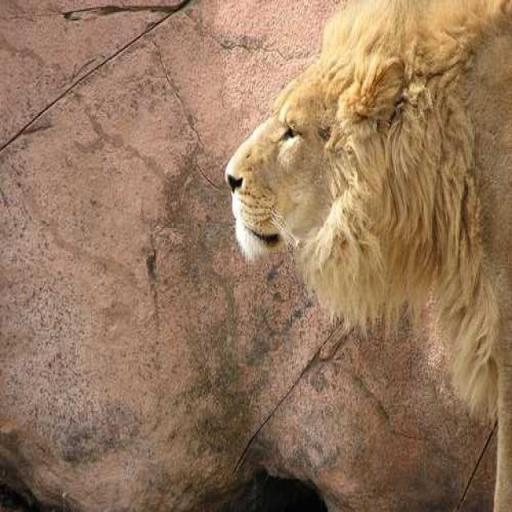Lion: (222, 0, 510, 511)
